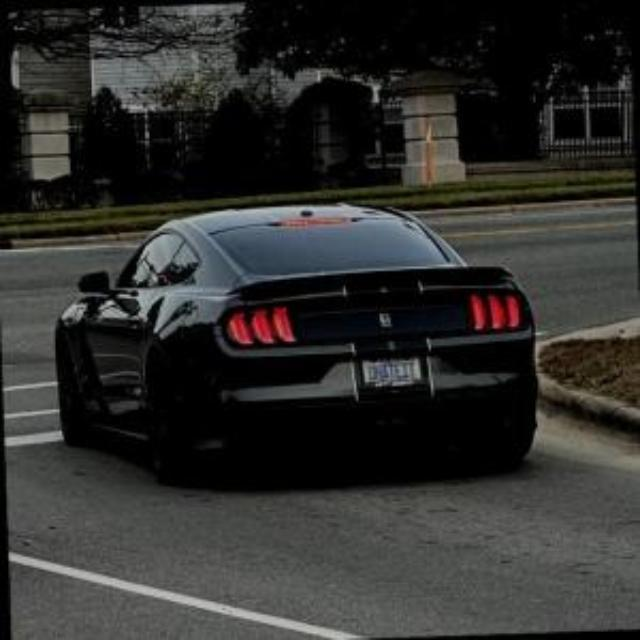License Plate: (359, 351, 424, 389)
